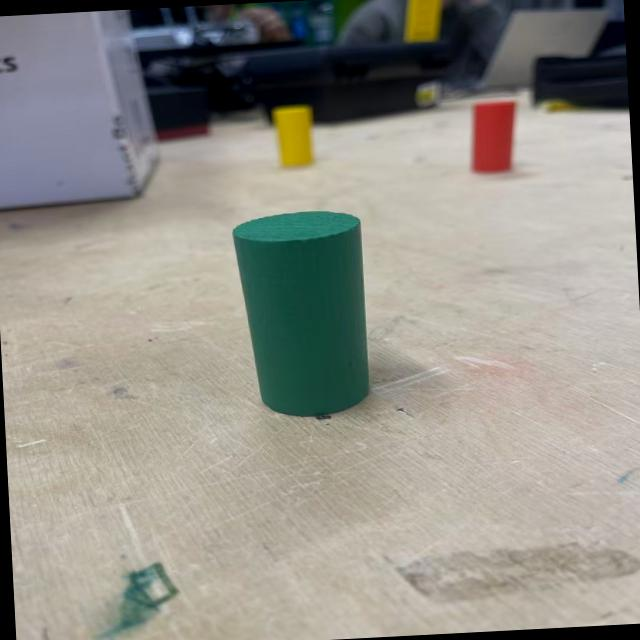green_cylinder: (232, 208, 372, 422)
